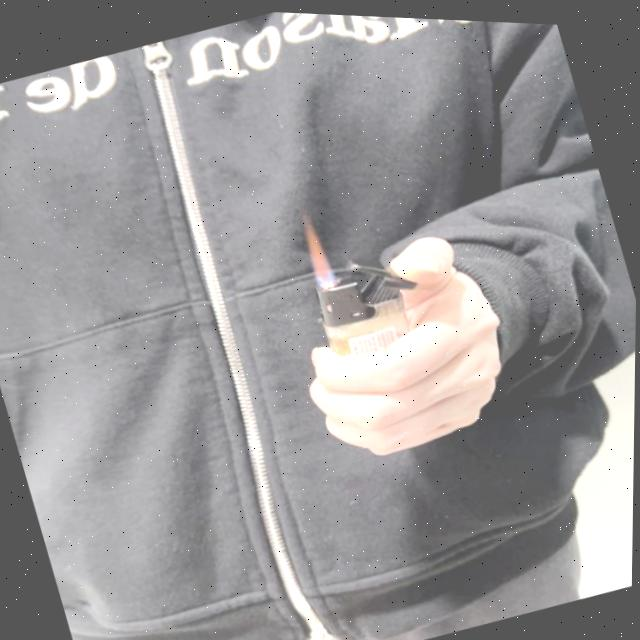Fire: (296, 207, 334, 285)
